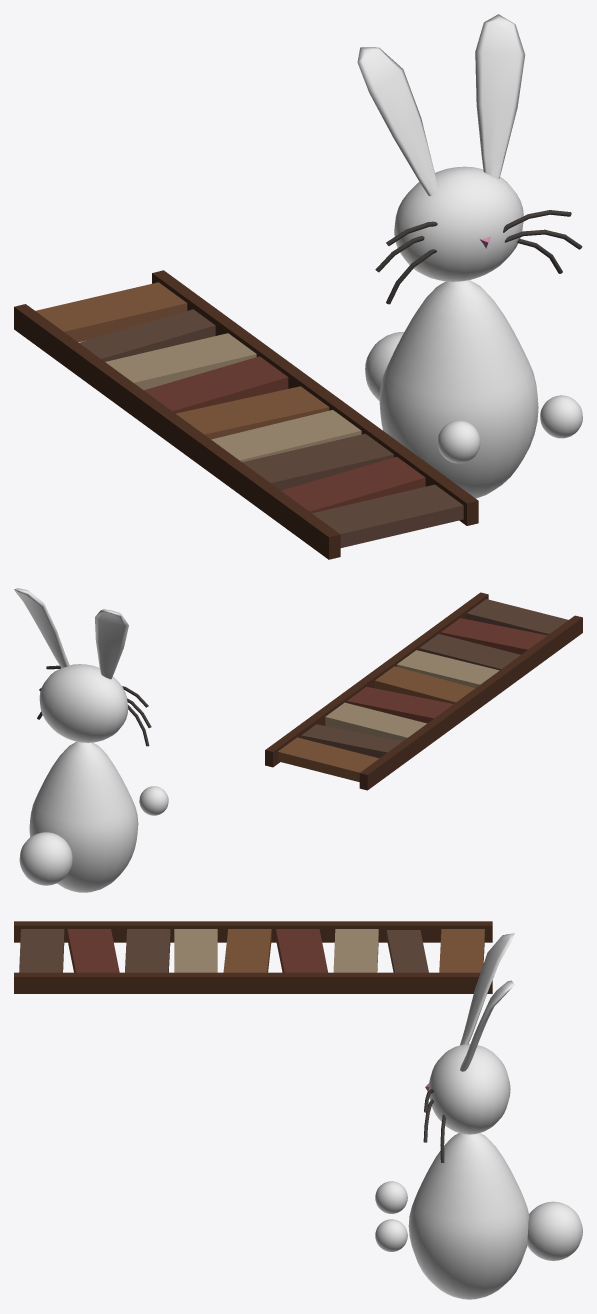
Rendered from models2.fbx.
3 renders of one model, top to bottom at view 1: azimuth 30°, elevation 25°; view 2: azimuth 150°, elevation 25°; view 3: azimuth 270°, elevation 25°, orthographic. The views are drawn at different scales.
Visible parts, largest first — view 1: pCube4, pCube2; view 2: pCube4, pCube2; view 3: pCube4, pCube2.
Part boxes in pixels (x1,y1,x2,y2): pCube4: (14, 270, 478, 559); pCube2: (357, 14, 582, 498); pCube4: (265, 592, 582, 790); pCube2: (14, 588, 168, 892); pCube4: (14, 921, 492, 993); pCube2: (375, 933, 582, 1299).
Bounding box in the file's own units: 10.22 × 8.27 × 12.66.
